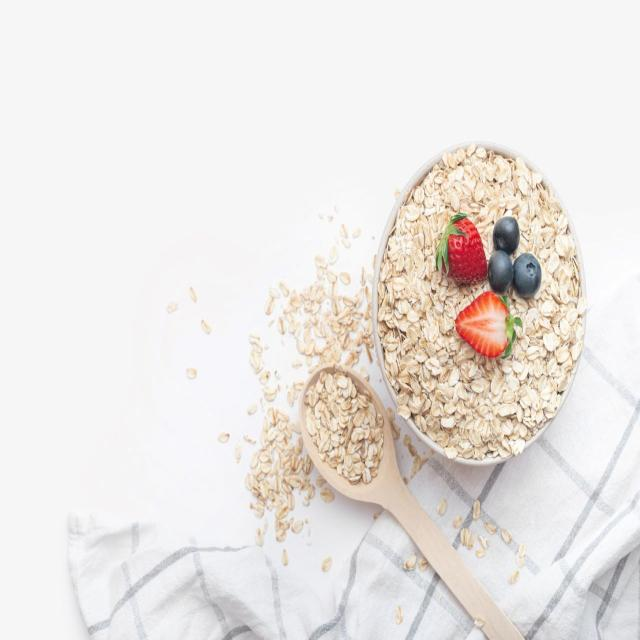avena: (377, 142, 587, 462)
